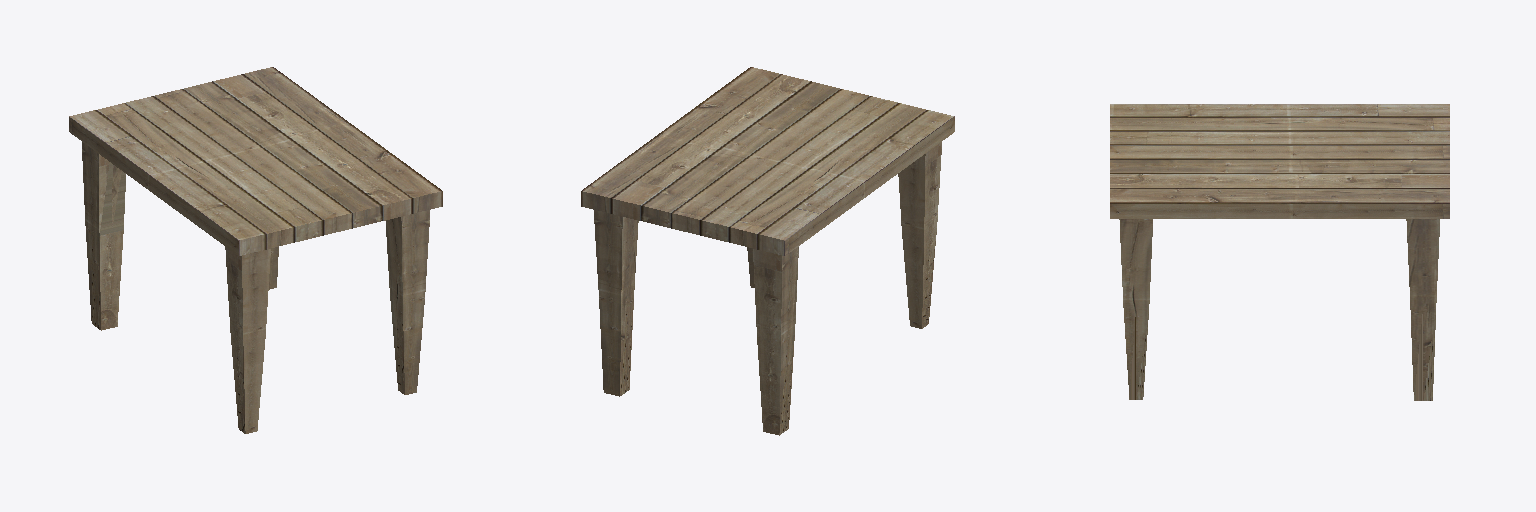
3 views of the same model, side by side, from view 1: azimuth 30°, elevation 25°; view 2: azimuth 150°, elevation 25°; view 3: azimuth 270°, elevation 25° (orthographic).
Parts seen in each view (by area): view 1: Top, Leg01, Leg02, Leg03; view 2: Top, Leg01, Leg04, Leg02; view 3: Top, Leg04, Leg03.
Part boxes in pixels (x1,y1,x2,y2): Top: (69,67,442,255); Leg01: (82,142,125,330); Leg02: (225,247,270,433); Leg03: (386,210,429,394); Top: (581,67,954,255); Leg01: (753,247,798,435); Leg04: (594,210,638,396); Leg02: (898,142,941,328); Top: (1110,104,1449,218); Leg04: (1406,219,1439,400); Leg03: (1119,219,1152,399).
Size of the model in its own units: 9.01 by 8.63 by 12.98.
1 materials, 1 textured.